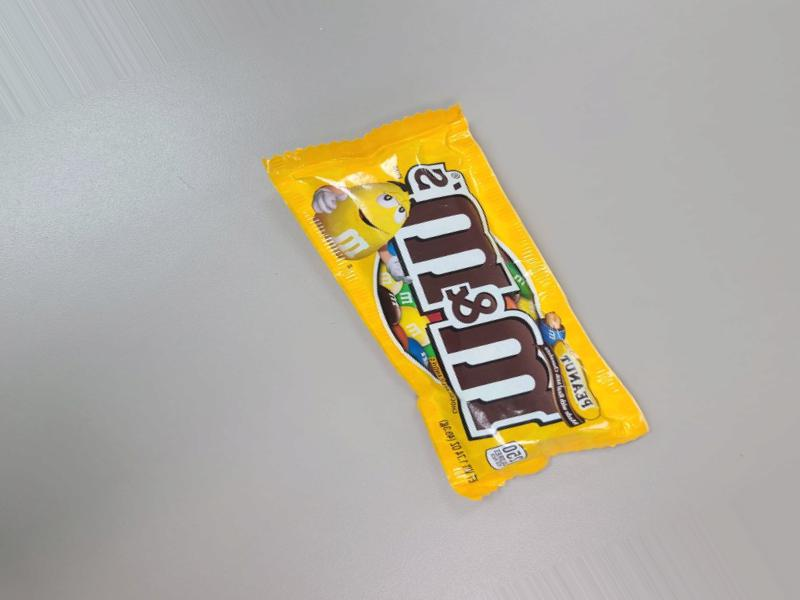m&m: (296, 126, 674, 524)
